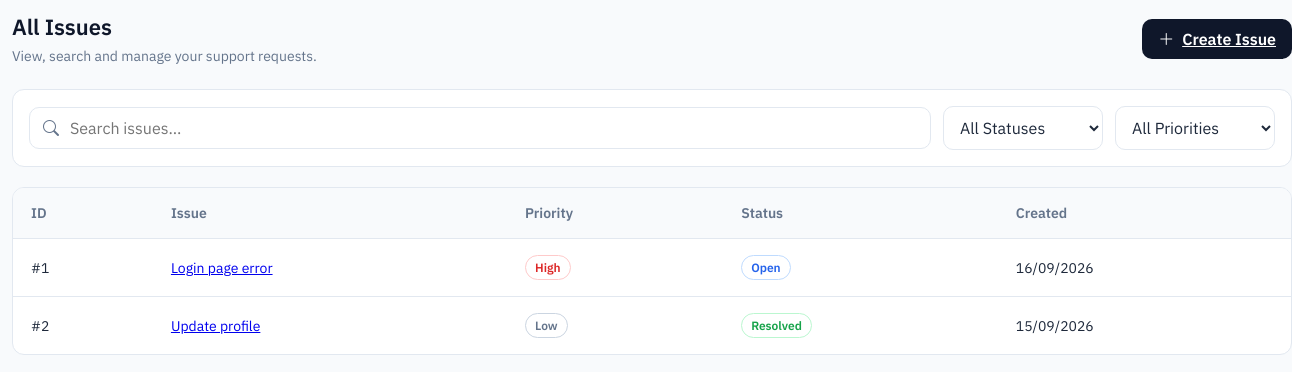
Issues page › filters issues using search
The width and height of the screenshot is (1292, 372).
Expected: the link "Login page error" is shown, [171, 258, 272, 276]
Type "Login" into the field with placeholder "Search issues..." at (480, 128), box [29, 107, 931, 149]
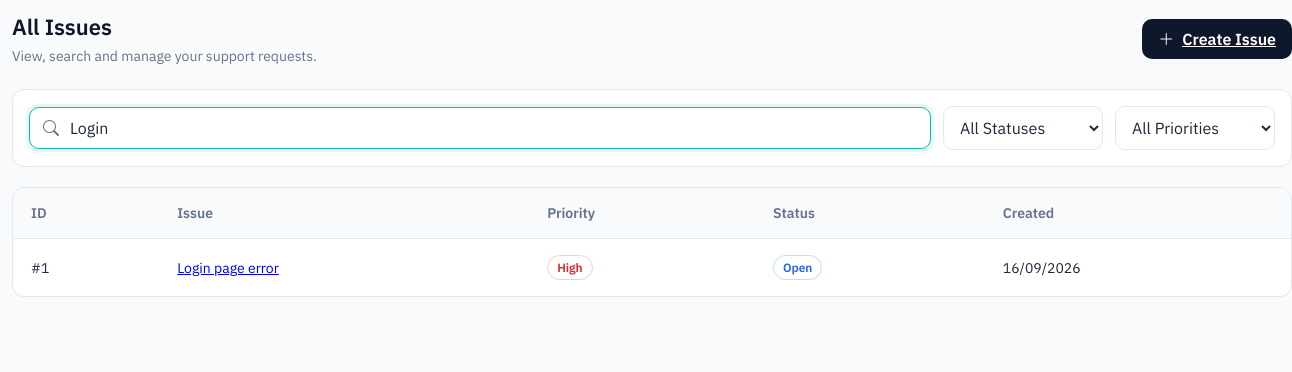
Expected: the link "Login page error" is shown, [177, 258, 279, 276]
Expected: the link "Update profile" is gone
